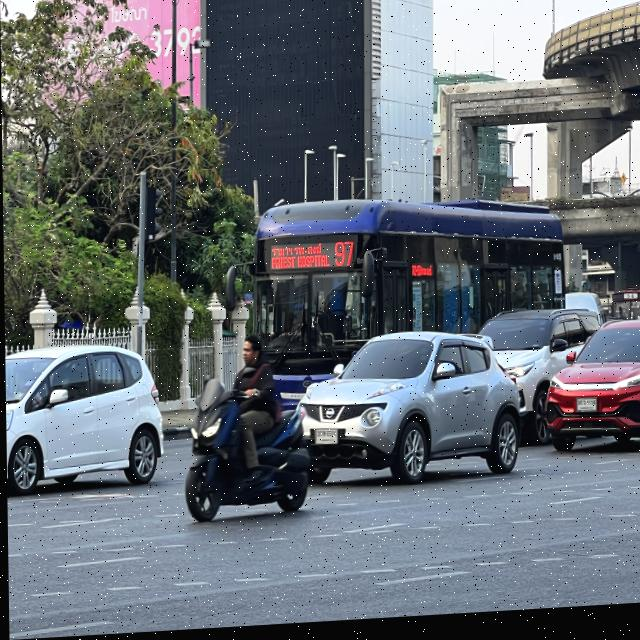Bus-Line-Number: (331, 239, 356, 277)
Destination-Sign-Normal: (268, 246, 331, 278)
TSB-Bus: (246, 194, 566, 417)
